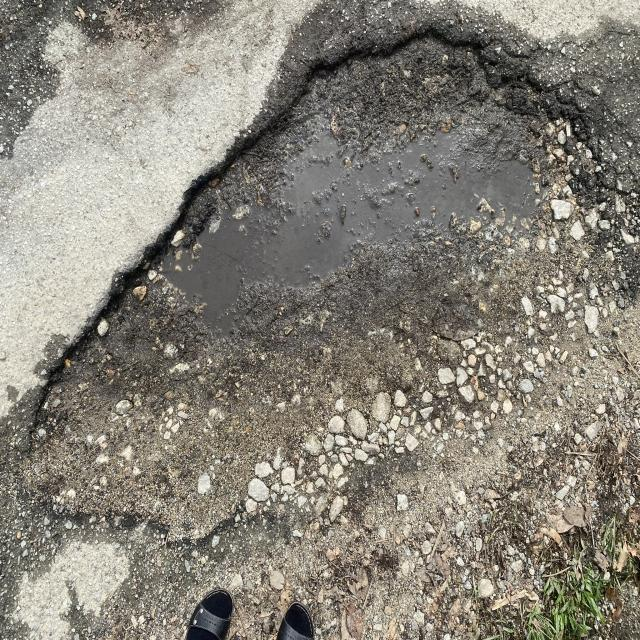Pothole: (21, 23, 600, 463)
